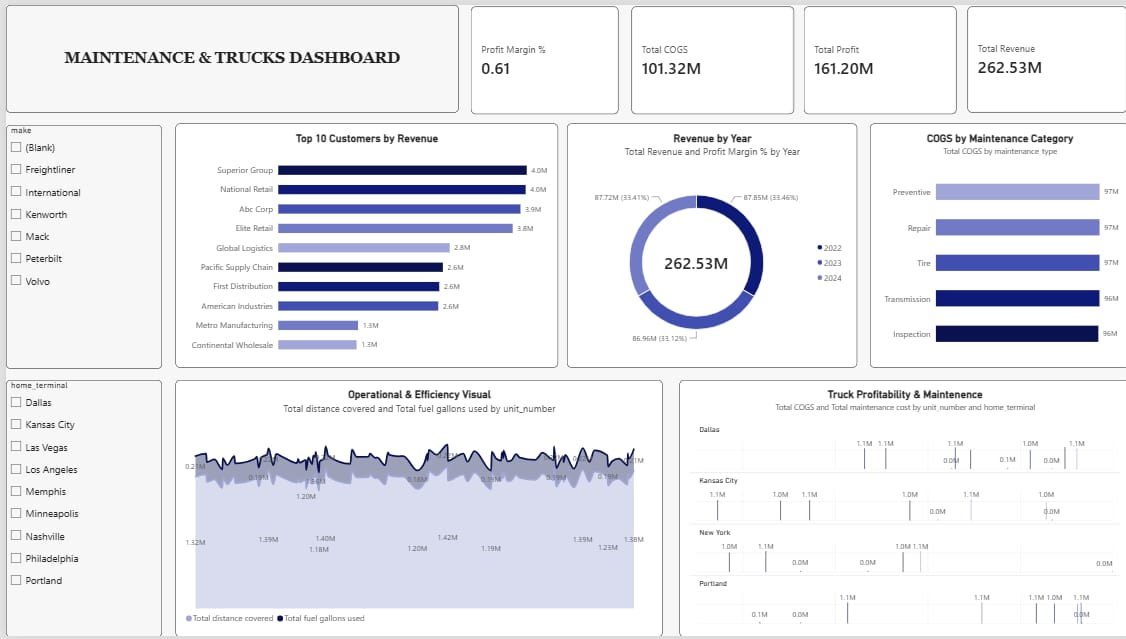

The page's visual inventory and layout, read from the dashboard file:
{"tool":"powerbi","page":{"name":"Page 1","canvas":[1920,1080],"ordinal":0},"visuals":[{"type":"donutChart","title":"Revenue by Year","fields":{"Category":["trips.dispatch_date.Variation.Date Hierarchy.Year","trips.dispatch_date.Variation.Date Hierarchy.Month"],"Y":["Measures (2).Total Revenue","Measures (2).Profit Margin %"]},"box":[959.1,202.8,496.3,417.5],"z":0},{"type":"barChart","title":"Top 10 Customers by Revenue","fields":{"Category":["customers (1).customer_name"],"Y":["Measures (2).Total Revenue"]},"box":[288.7,202.8,653.7,417.5],"z":1000},{"type":"stackedAreaChart","title":"Operational & Efficiency Visual ","fields":{"Category":["trucks.unit_number"],"Y":["trips.Total distance covered","trips.Total fuel gallons used"]},"box":[288.7,641.8,832.7,439],"z":2000},{"type":"clusteredBarChart","title":"COGS by Maintenance Category","fields":{"Category":["maintenance_records.maintenance_type"],"Y":["Measures (2).Total COGS"]},"box":[1476.9,202.8,443.8,417.5],"z":3000},{"type":"clusteredColumnChart","title":"Truck Profitability & Maintenence","fields":{"Category":["trucks.unit_number"],"Rows":["trucks.home_terminal"],"Y":["Measures (2).Total COGS"]},"box":[1150,641.8,770.7,439],"z":4000},{"type":"cardVisual","title":"REVENUE","fields":{"Data":["Measures (2).Total Revenue"]},"box":[1644.1,2.8,275,181.4],"z":4001},{"type":"cardVisual","fields":{"Data":["Measures (2).Total Profit"]},"box":[1363.5,2.8,260.8,184.3],"z":4002},{"type":"cardVisual","fields":{"Data":["Measures (2).Total COGS"]},"box":[1068.7,2.8,277.8,184.3],"z":4003},{"type":"cardVisual","fields":{"Data":["Measures (2).Profit Margin %"]},"box":[793.7,2.8,252.3,184.3],"z":4004},{"type":"slicer","fields":{"Values":["trucks.home_terminal"]},"box":[0,640.6,266.5,439.4],"z":4005},{"type":"slicer","fields":{"Values":["trucks.make"]},"box":[0,204.1,266.5,416.7],"z":4006},{"type":"textbox","box":[0,0,773.9,184.3],"z":4007}]}

Visuals, with their boxes in screenshot pixels (x1, y1, x2, y2), scaled from the page's 1920x1080 canvas onto the 1126x639 screenshot:
"Revenue by Year" donutChart: <bbox>562, 120, 854, 367</bbox>
"Top 10 Customers by Revenue" barChart: <bbox>169, 120, 553, 367</bbox>
"Operational & Efficiency Visual " stackedAreaChart: <bbox>169, 380, 658, 638</bbox>
"COGS by Maintenance Category" clusteredBarChart: <bbox>866, 120, 1125, 367</bbox>
"Truck Profitability & Maintenence" clusteredColumnChart: <bbox>674, 380, 1125, 638</bbox>
"REVENUE" cardVisual: <bbox>964, 2, 1125, 109</bbox>
cardVisual - Measures (2).Total Profit: <bbox>800, 2, 953, 111</bbox>
cardVisual - Measures (2).Total COGS: <bbox>627, 2, 790, 111</bbox>
cardVisual - Measures (2).Profit Margin %: <bbox>465, 2, 613, 111</bbox>
slicer - trucks.home_terminal: <bbox>0, 379, 156, 638</bbox>
slicer - trucks.make: <bbox>0, 121, 156, 367</bbox>
textbox: <bbox>0, 0, 454, 109</bbox>
